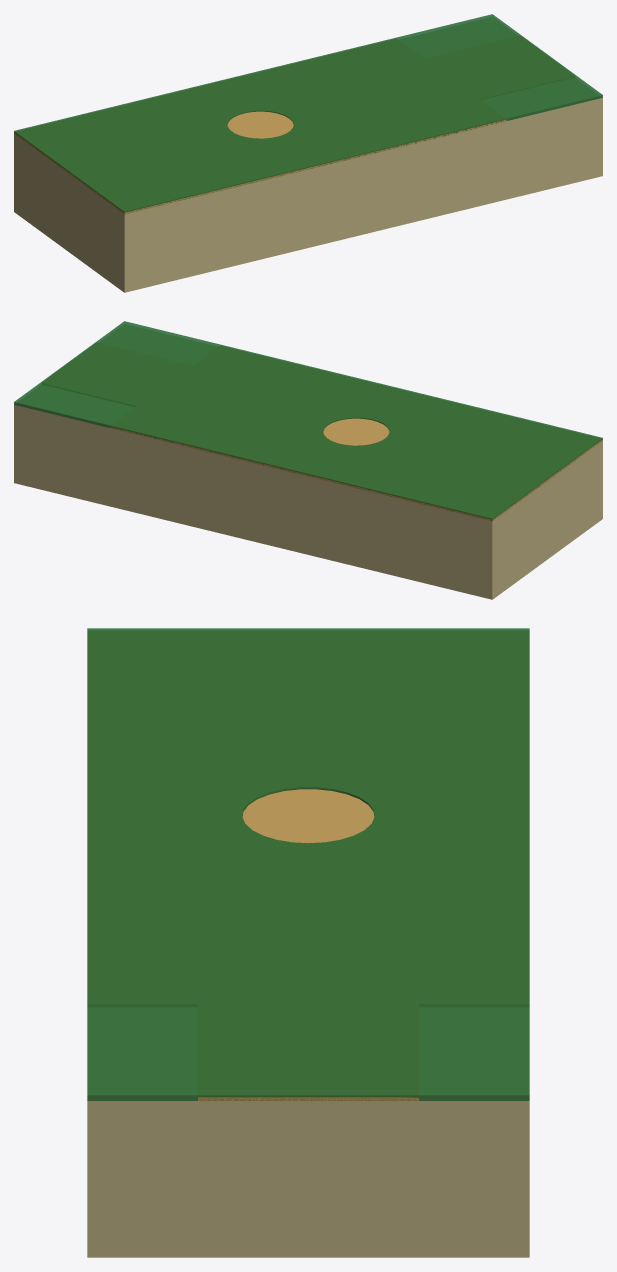
The model's file is overlap-priority.glb.
3 views of the same model, one above another, from view 1: azimuth 30°, elevation 25°; view 2: azimuth 150°, elevation 25°; view 3: azimuth 270°, elevation 25° (orthographic). The views are drawn at different scales.
Visible parts, largest first — view 1: layer/@soldermask-top, layer/@core, layer/TOP; view 2: layer/@soldermask-top, layer/@core, layer/TOP; view 3: layer/@soldermask-top, layer/@core, layer/TOP.
Boxes of the visible parts, left/top/right/bottom form: layer/@soldermask-top: left=14, top=14, right=602, bottom=214; layer/@core: left=14, top=18, right=602, bottom=292; layer/TOP: left=14, top=38, right=535, bottom=214; layer/@soldermask-top: left=14, top=321, right=602, bottom=521; layer/@core: left=14, top=327, right=602, bottom=599; layer/TOP: left=44, top=346, right=602, bottom=521; layer/@soldermask-top: left=87, top=628, right=529, bottom=1100; layer/@core: left=87, top=1008, right=529, bottom=1257; layer/TOP: left=89, top=631, right=528, bottom=1100.
Bounding box in the file's own units: 0.01 × 0.00162 × 0.004.
